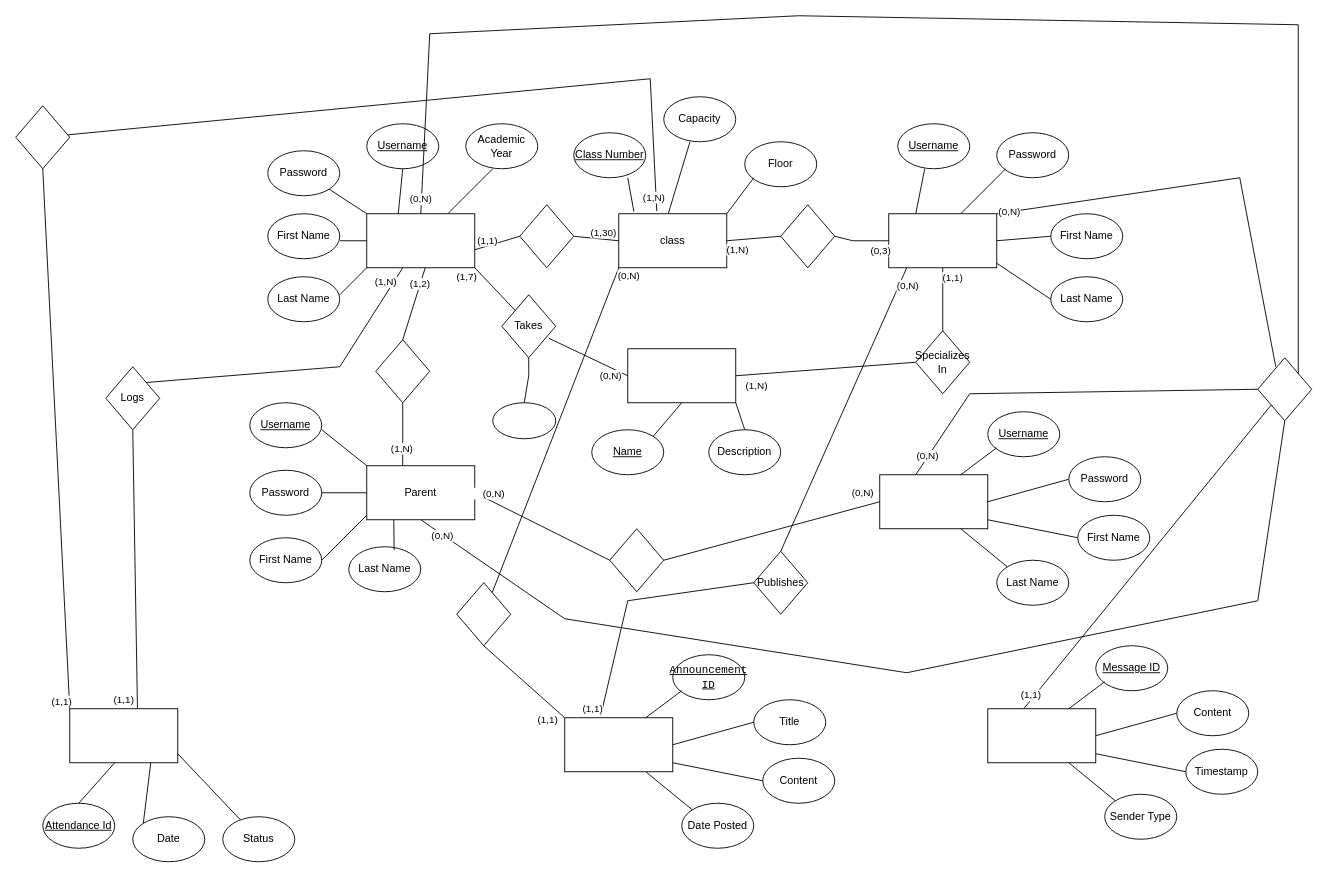
This 1339x878 diagram has some shape labels left out. Each missing label, with the centre of its shape:
"Admin" goes at pixel 933 501.
"Announcement" goes at pixel 618 744.
"Attendance" goes at pixel 123 735.
"Belongs To" goes at pixel 546 236.
"Child Of" goes at pixel 402 371.
"Communicates" goes at pixel 1284 389.
"Contacts" goes at pixel 636 560.
"Grade" goes at pixel 524 420.
"Message" goes at pixel 1041 735.
"Recives" goes at pixel 483 614.
"Recorded In" goes at pixel 42 137.
"Student" goes at pixel 420 240.
"Subject" goes at pixel 681 375.
"Teacher" goes at pixel 942 240.
"Teaches" goes at pixel 807 236.
